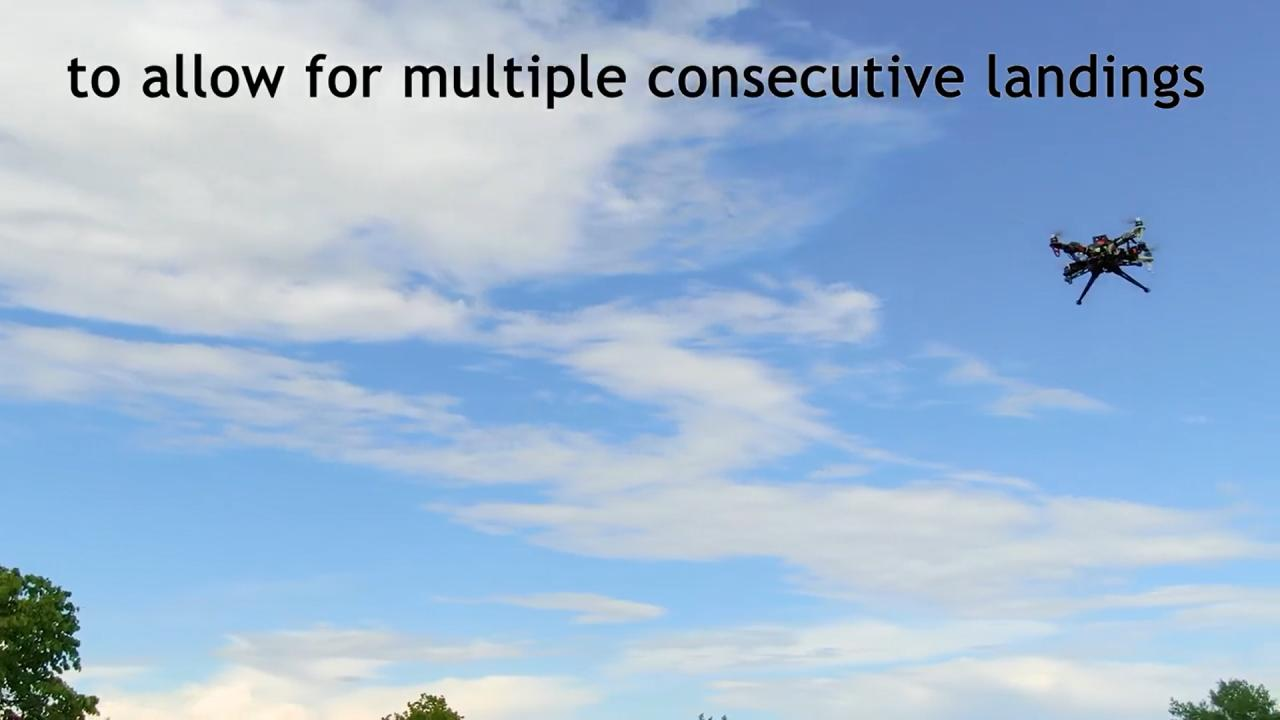Drone: (1032, 202, 1170, 316)
